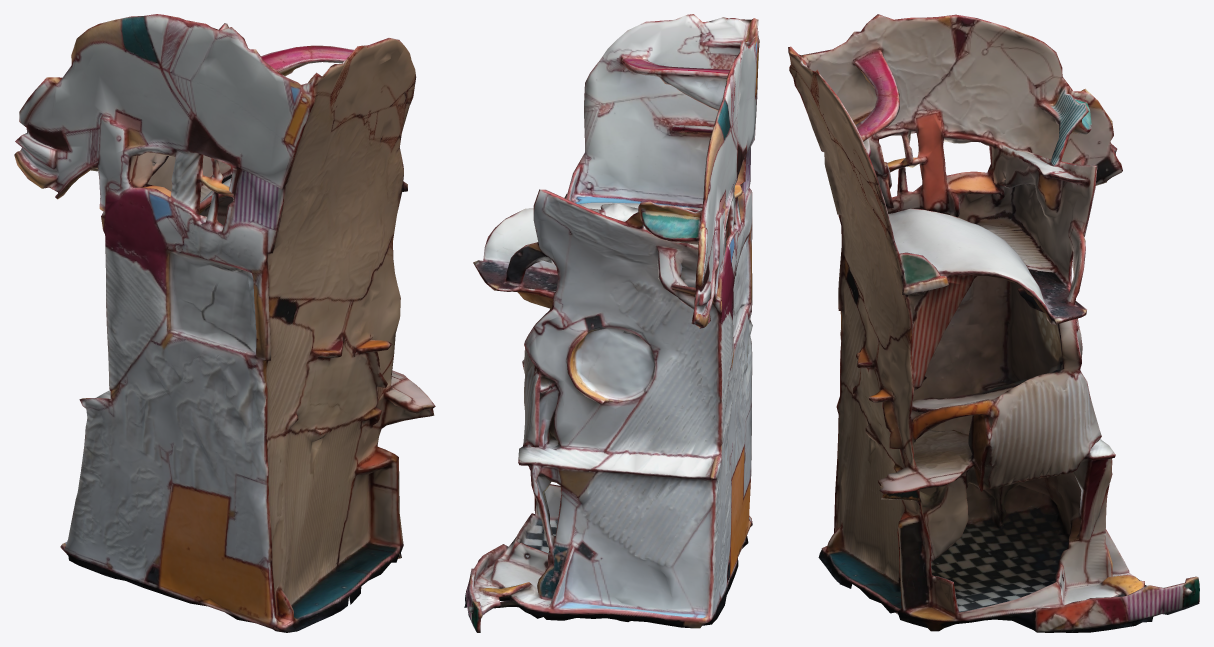
3 views of the same model, side by side, from view 1: azimuth 30°, elevation 25°; view 2: azimuth 150°, elevation 25°; view 3: azimuth 270°, elevation 25° (orthographic). The views are drawn at different scales.
Parts seen in each view (by area): view 1: lielais-krasainais_Model_11; view 2: lielais-krasainais_Model_11; view 3: lielais-krasainais_Model_11.
Part boxes in pixels (x1,y1,x2,y2): lielais-krasainais_Model_11: (14, 14, 435, 632); lielais-krasainais_Model_11: (464, 14, 759, 632); lielais-krasainais_Model_11: (788, 14, 1199, 632).
Bounding box in the file's own units: 6.26 × 11.79 × 8.27.
Materials: 1 (1 with a texture image).
